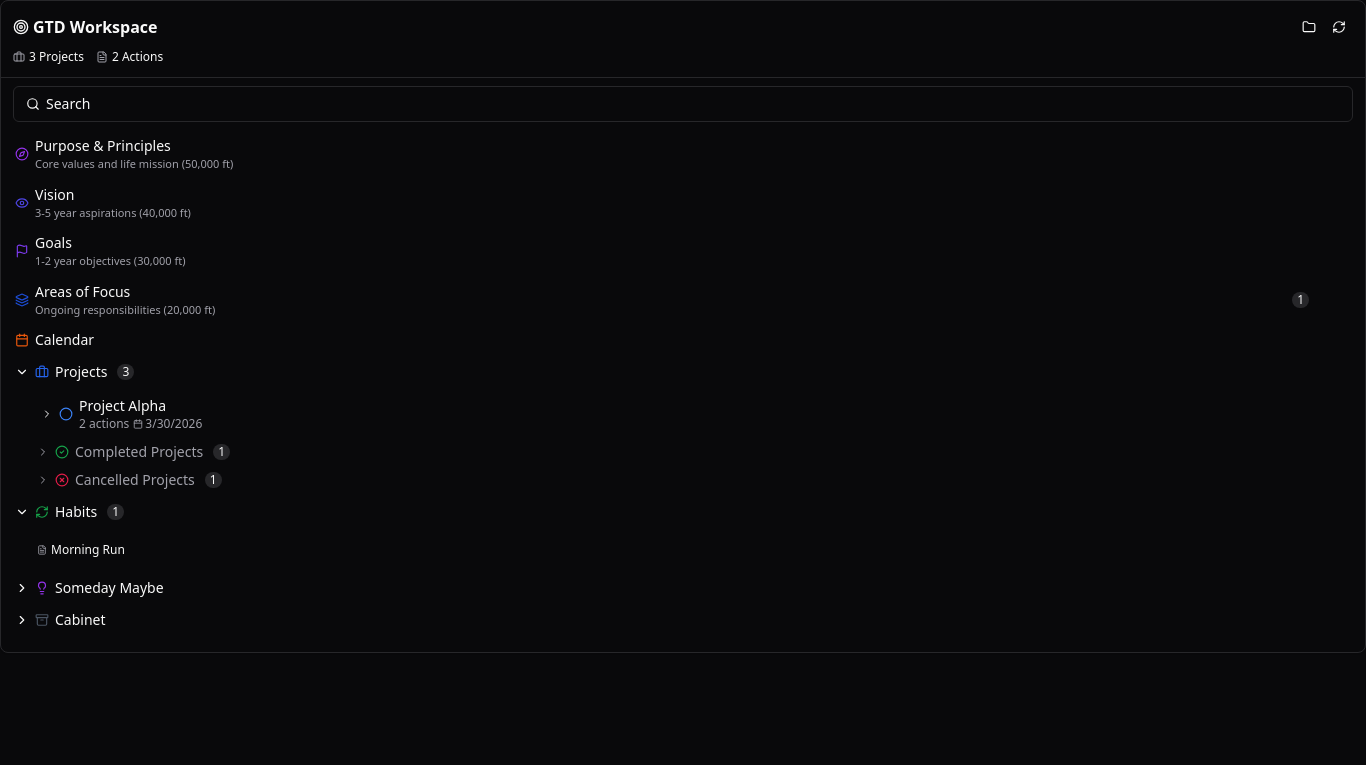
Test case: GTDWorkspaceSidebar component › renders projects, preloaded sections, and completed buckets for an initialized GTD workspace
The image size is (1366, 765).
expect the text "Project Alpha" is shown: met, box x1=79 y1=396 x2=166 y2=415
expect the text "Morning Run" is shown: met, box x1=51 y1=542 x2=125 y2=558
Step 1. Click the button named "Expand Project Alpha" → (47, 414), box x1=37 y1=404 x2=57 y2=424
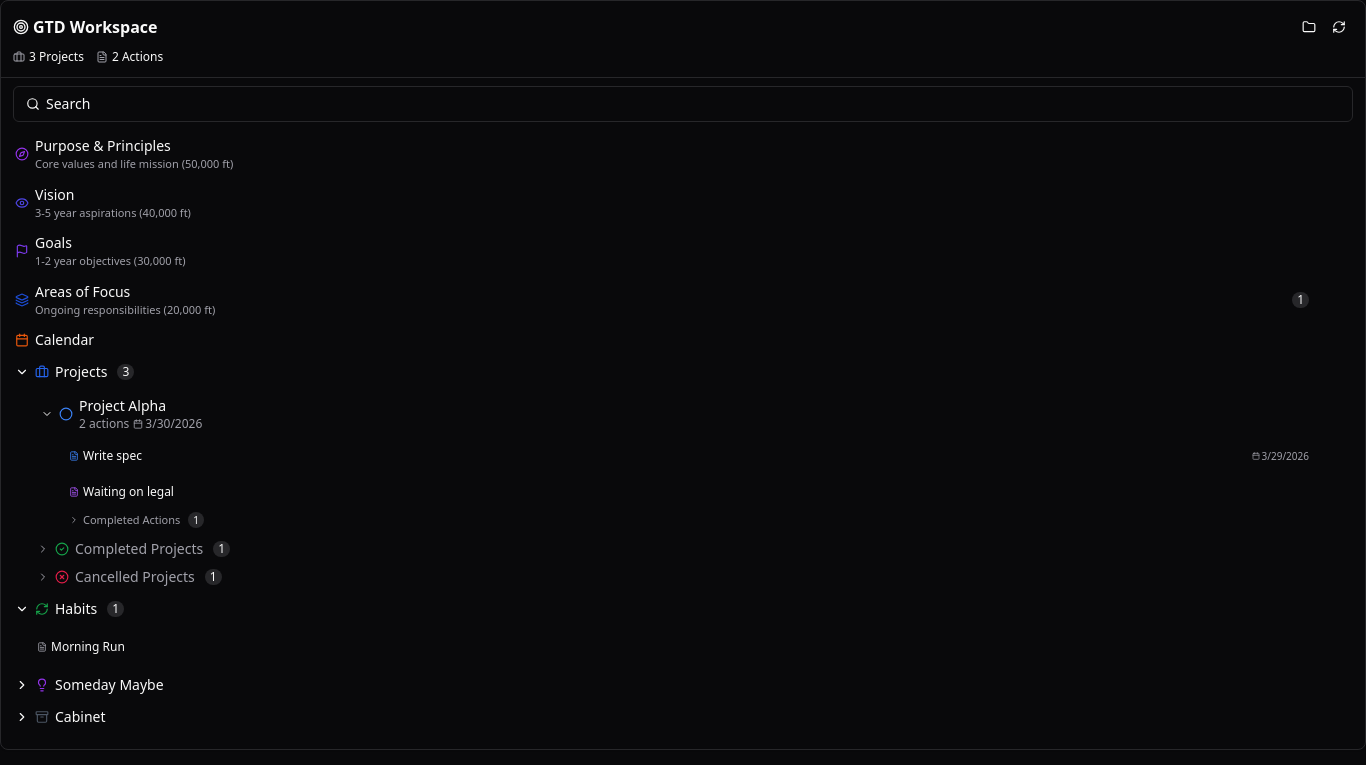
expect the text "Write spec" is shown: met, box x1=83 y1=448 x2=142 y2=464
expect the text "Waiting on legal" is shown: met, box x1=83 y1=484 x2=174 y2=500
expect the text "Completed Actions" is shown: met, box x1=69 y1=512 x2=1345 y2=528
Step 2. Click the text "Completed Actions" → (132, 520), box x1=83 y1=512 x2=180 y2=528
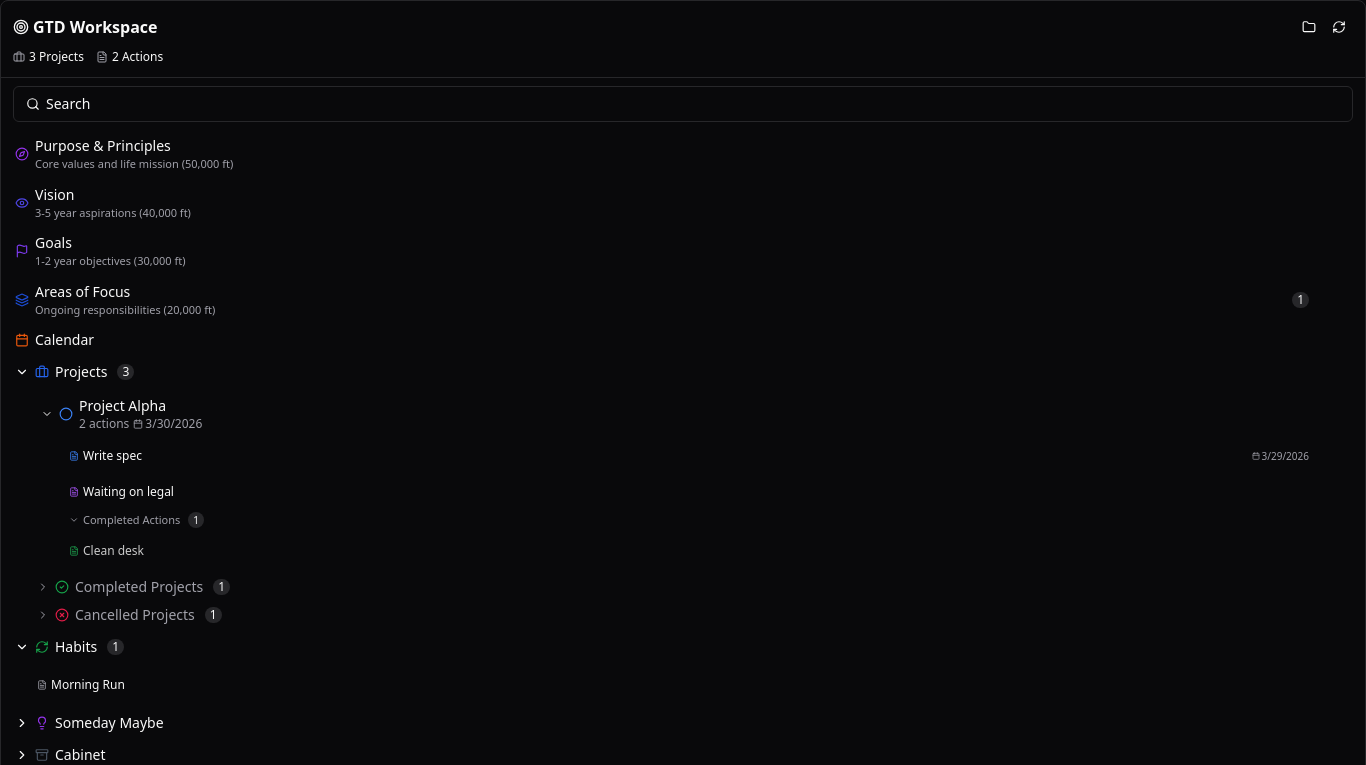
expect the text "Clean desk" is shown: met, box x1=83 y1=542 x2=144 y2=558
Step 3. Click the text "Completed Projects" → (139, 586), box x1=75 y1=576 x2=203 y2=596
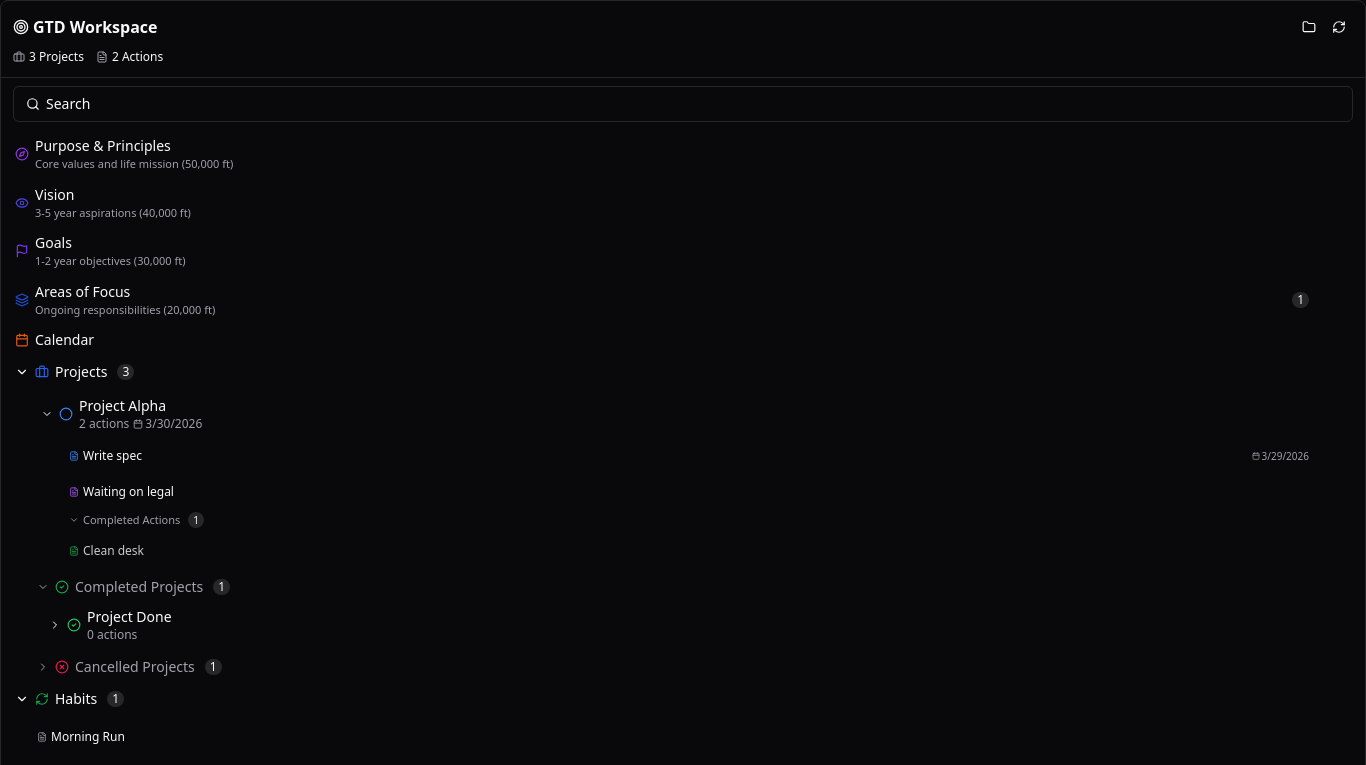
expect the text "Project Done" is shown: met, box x1=87 y1=606 x2=172 y2=626
Step 4. Click the text "Cancelled Projects" → (135, 666), box x1=75 y1=656 x2=195 y2=676
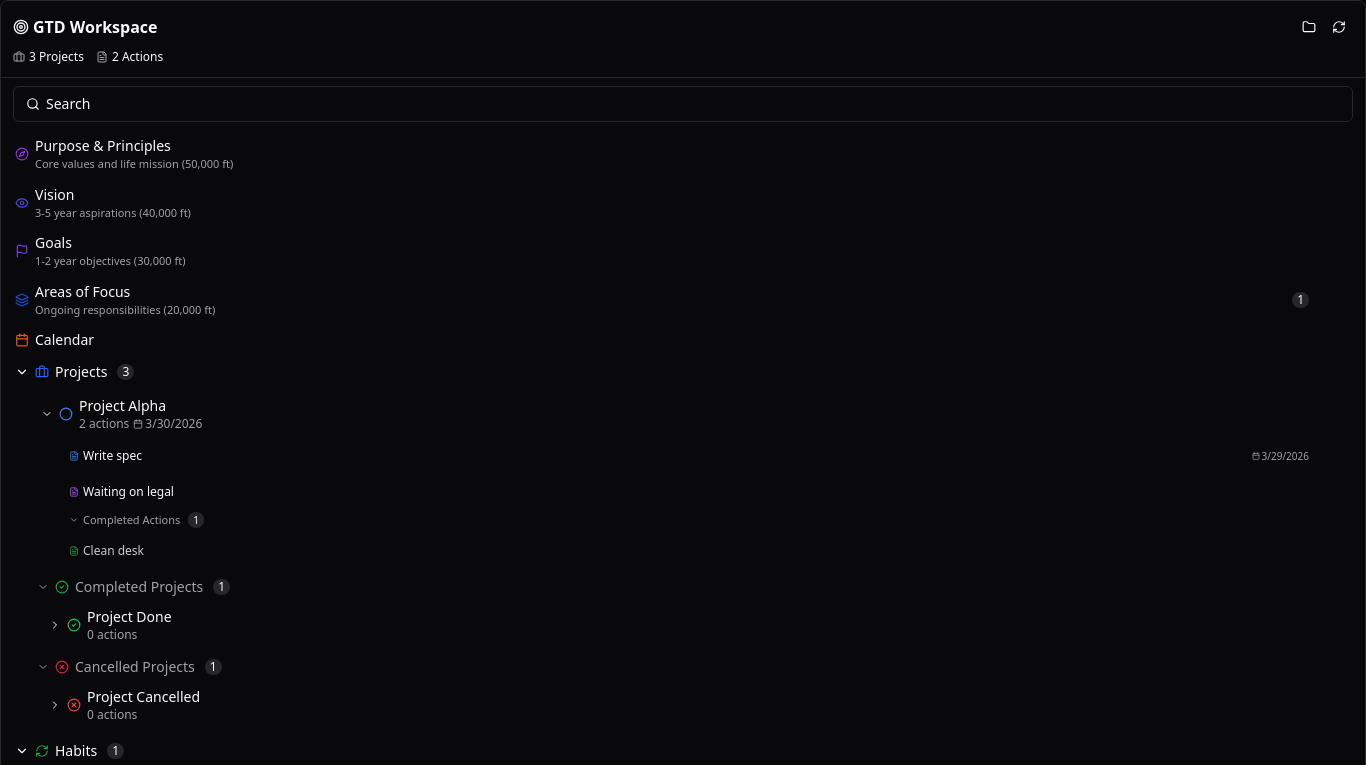
expect the text "Project Cancelled" is shown: met, box x1=87 y1=686 x2=200 y2=706
